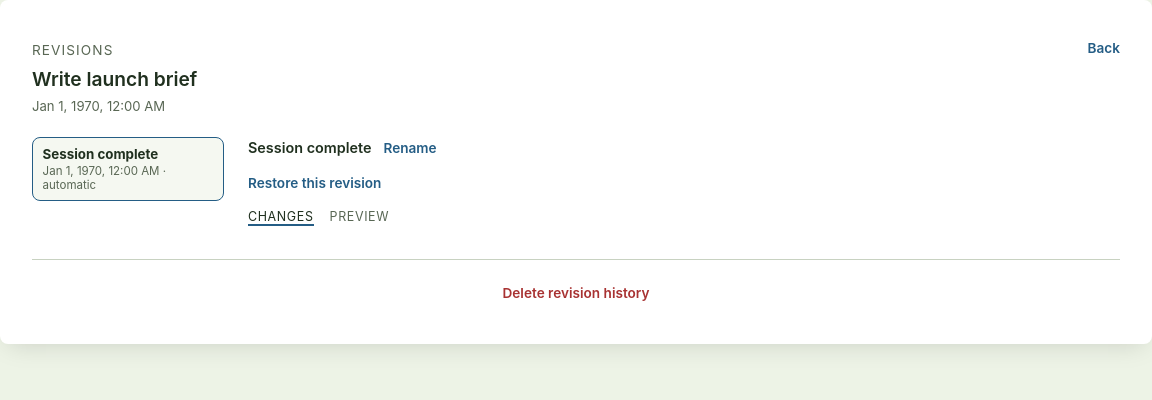
RevisionHistory › switches to Preview and renders the selected revision as sanitized Markdown
Click the tab "Preview". click: (359, 217)
box: [330,209,389,226]
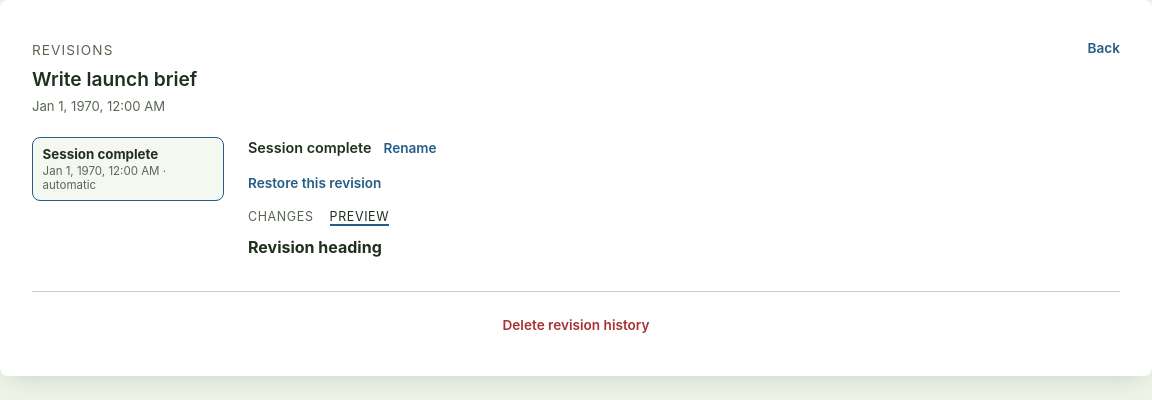
Check: the heading "Revision heading" is shown, box [248,238,382,258]
